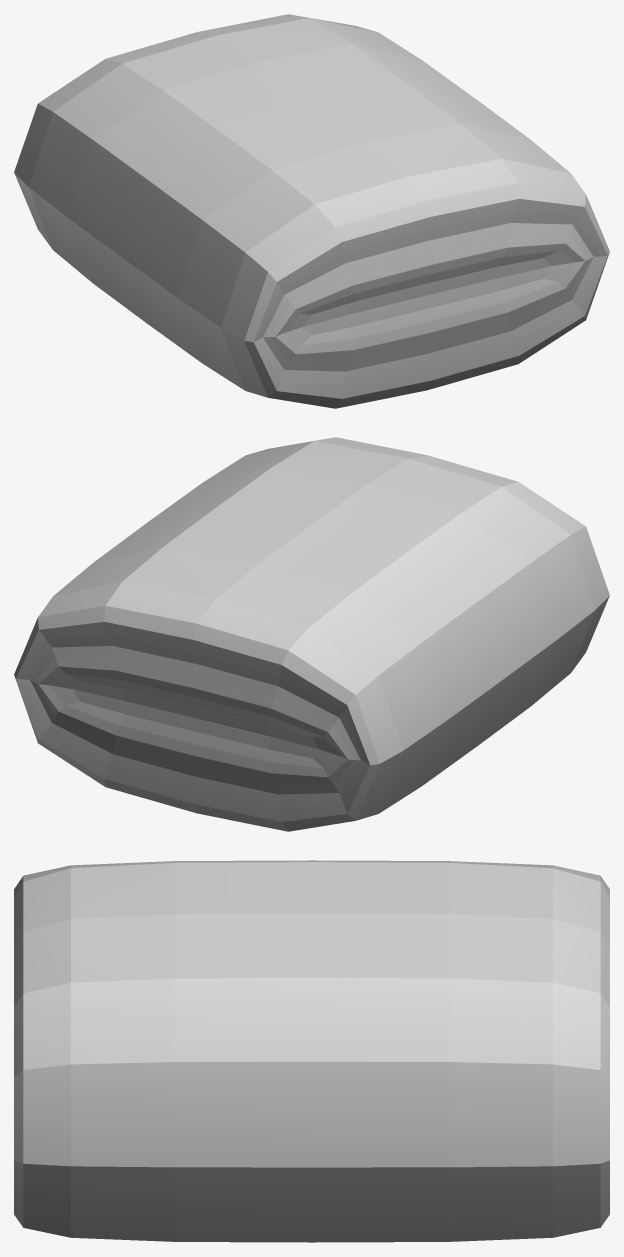
File: Clothes2_C1.fbx
3 views of the same model, one above another, from view 1: azimuth 30°, elevation 25°; view 2: azimuth 150°, elevation 25°; view 3: azimuth 270°, elevation 25° (orthographic). The views are drawn at different scales.
Visible parts, largest first — view 1: Clothes2_C1; view 2: Clothes2_C1; view 3: Clothes2_C1.
Boxes of the visible parts, x1,y1,x2,y2 form: Clothes2_C1: [14, 14, 609, 408]; Clothes2_C1: [14, 437, 609, 831]; Clothes2_C1: [14, 860, 609, 1242].
Bounding box in the file's own units: 21.86 × 12.06 × 23.8.
